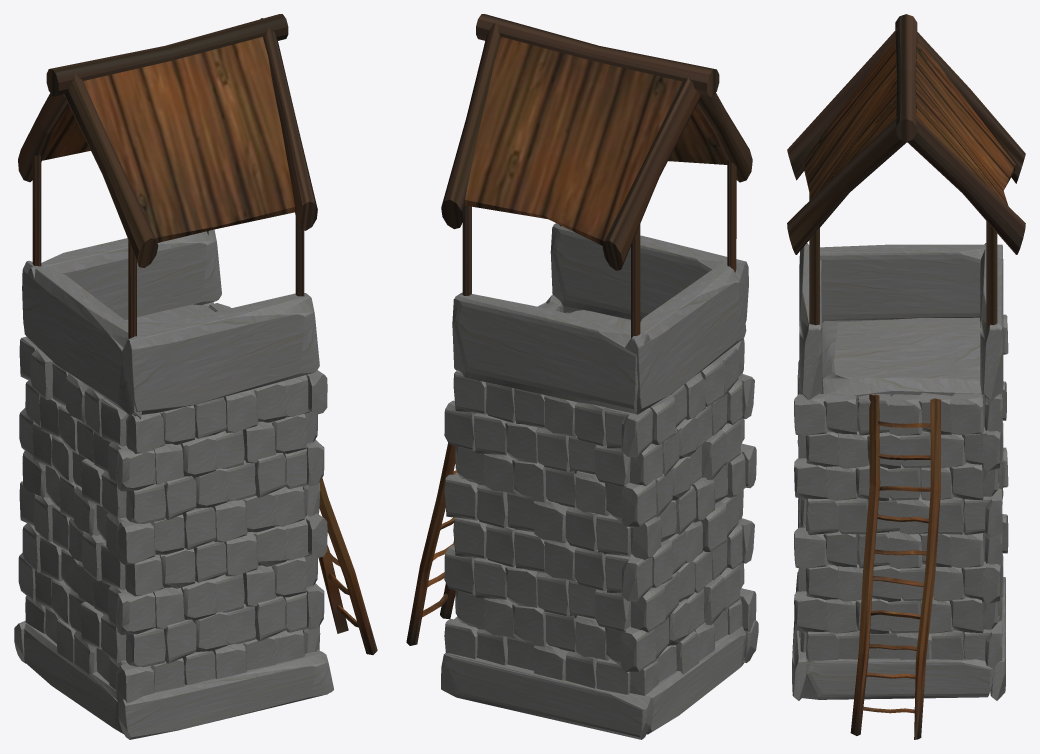
The model's file is StoneTower.fbx.
3 views of the same model, side by side, from view 1: azimuth 30°, elevation 25°; view 2: azimuth 150°, elevation 25°; view 3: azimuth 270°, elevation 25° (orthographic). The views are drawn at different scales.
Parts seen in each view (by area): view 1: StoneTower; view 2: StoneTower; view 3: StoneTower.
Boxes of the visible parts, x1=… form: StoneTower: x1=14, y1=14, x2=377, y2=739; StoneTower: x1=406, y1=14, x2=758, y2=739; StoneTower: x1=787, y1=14, x2=1025, y2=739.
Size of the model in its own units: 6.68 by 13.57 by 4.97.
Materials: 1 (1 with a texture image).
